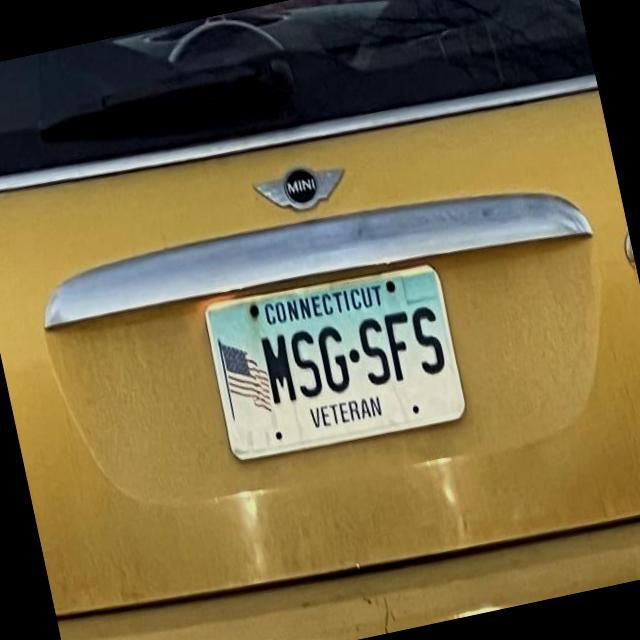LicensePlate: (198, 259, 466, 463)
